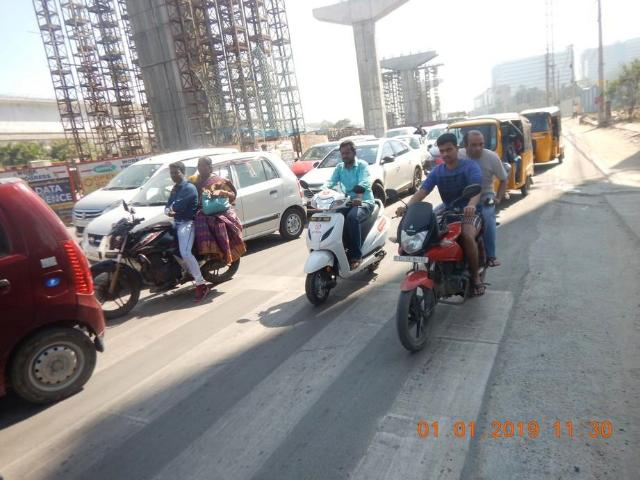motor: (396, 205, 489, 353), (301, 191, 390, 305), (95, 219, 187, 319)
non-helm: (438, 134, 458, 165), (465, 131, 486, 160), (341, 141, 358, 165), (171, 164, 187, 185), (200, 159, 213, 177)
